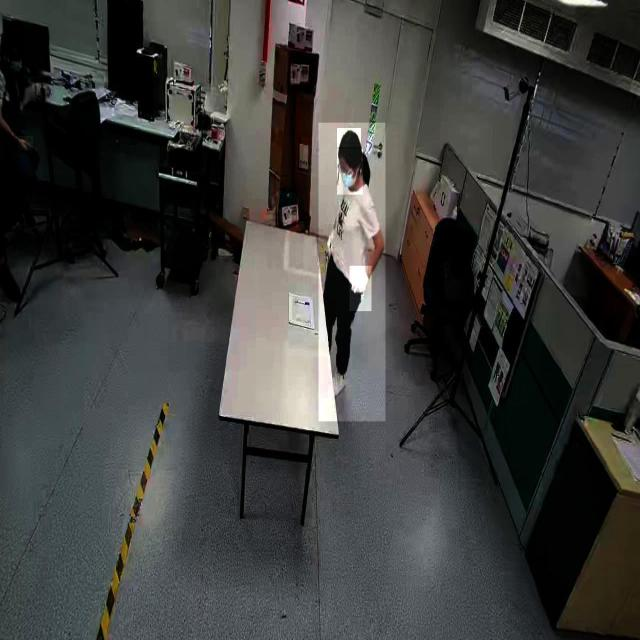face_mask: (337, 148, 363, 194), (9, 44, 25, 76)
hand_glove: (350, 266, 372, 312), (325, 224, 341, 256)
hand_noglove: (18, 136, 34, 151)
head_nohelmet: (337, 128, 361, 148), (4, 26, 24, 45)
person: (318, 123, 386, 422), (0, 32, 50, 318)
